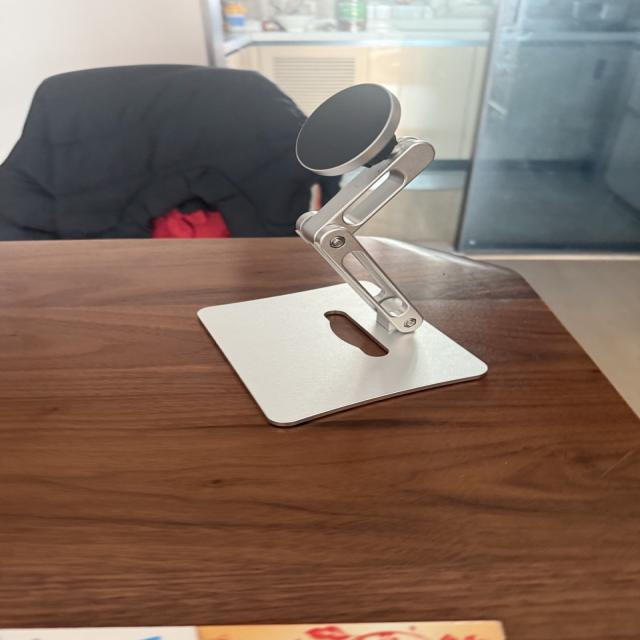phone holder: (182, 75, 496, 433)
